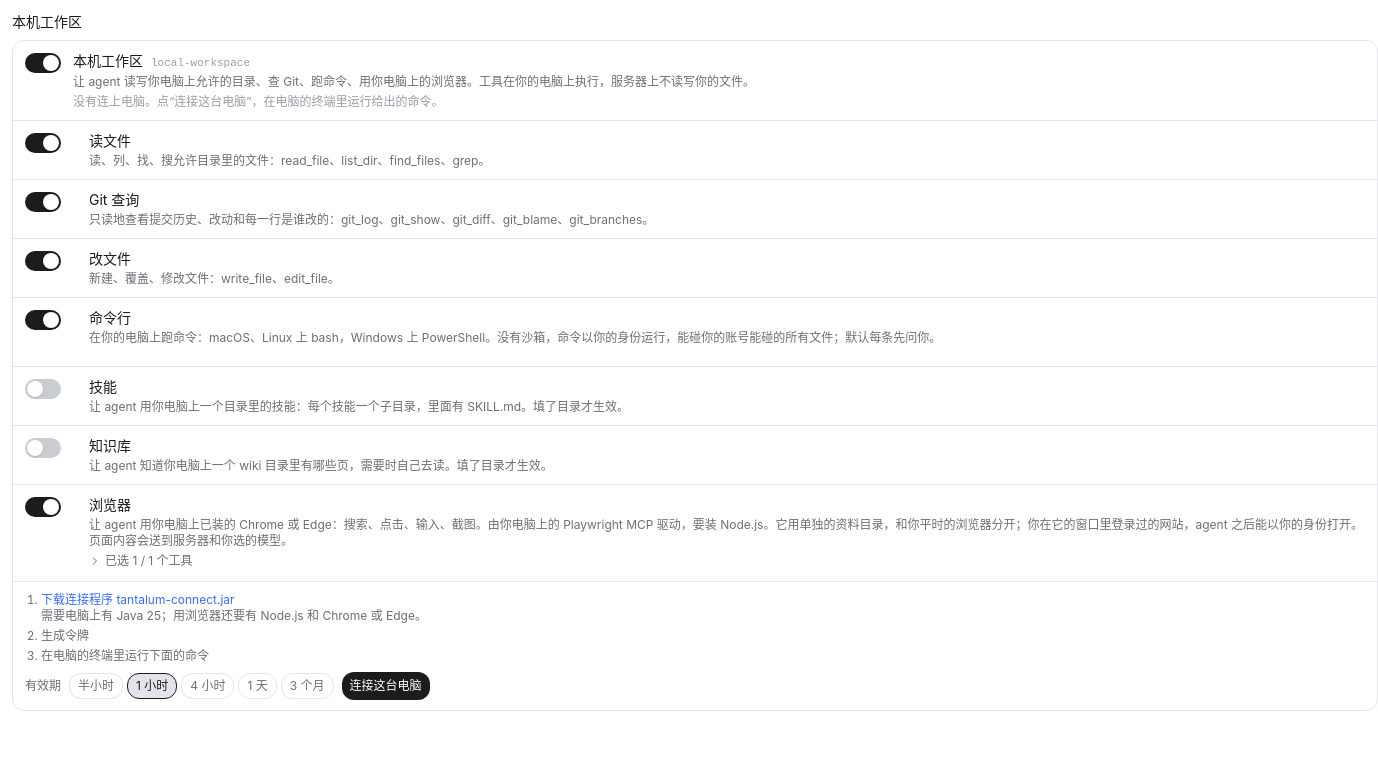
Scenario: LocalWorkspaceCard › the browser's tools › a tool the dictionary does not know is listed by its name alone; other switches have no tools
Click the button "已选 1 / 1 个工具". click: (141, 561)
box: [89,553,193,569]
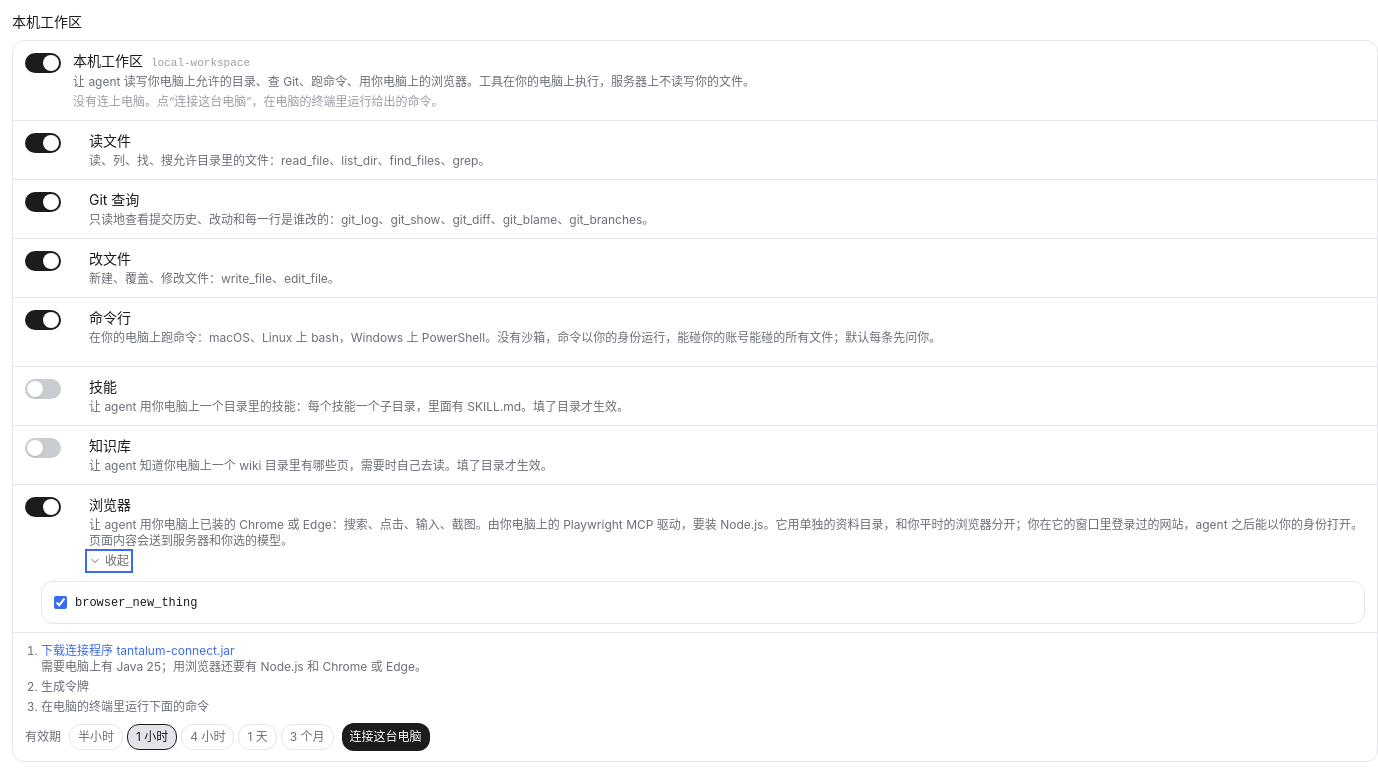
Now the checkbox labelled "browser_new_thing" is shown, box [54,596,67,609]
